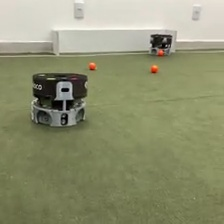ball: (87, 61, 97, 71), (150, 63, 159, 73), (156, 49, 165, 57)
goal: (51, 27, 177, 57)
robot: (30, 70, 90, 130), (148, 32, 173, 56)
